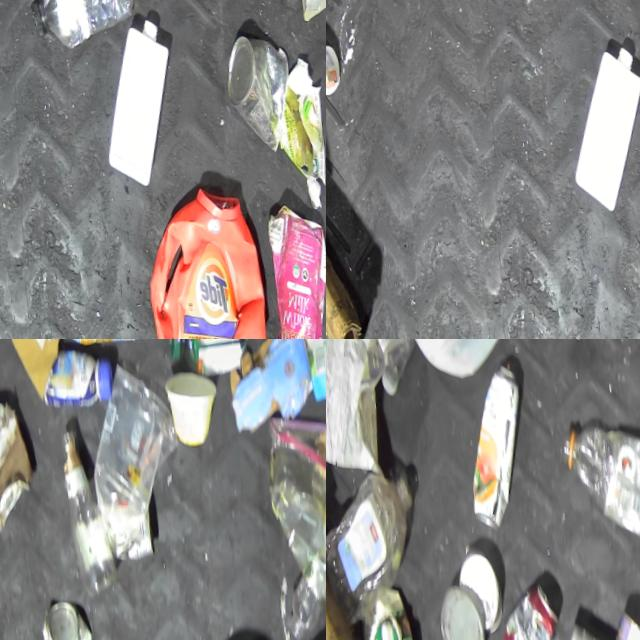can: (207, 24, 303, 176), (452, 363, 530, 540), (0, 398, 32, 541), (446, 554, 499, 640), (482, 584, 557, 640), (100, 516, 147, 572), (23, 601, 87, 640), (601, 616, 640, 640)
milk_jug: (554, 46, 640, 223), (395, 339, 540, 391)
non_white_jug: (119, 175, 278, 339)
plastic_bottle: (326, 468, 420, 634), (42, 429, 114, 602), (549, 425, 640, 553), (12, 0, 145, 72), (351, 339, 420, 401)
